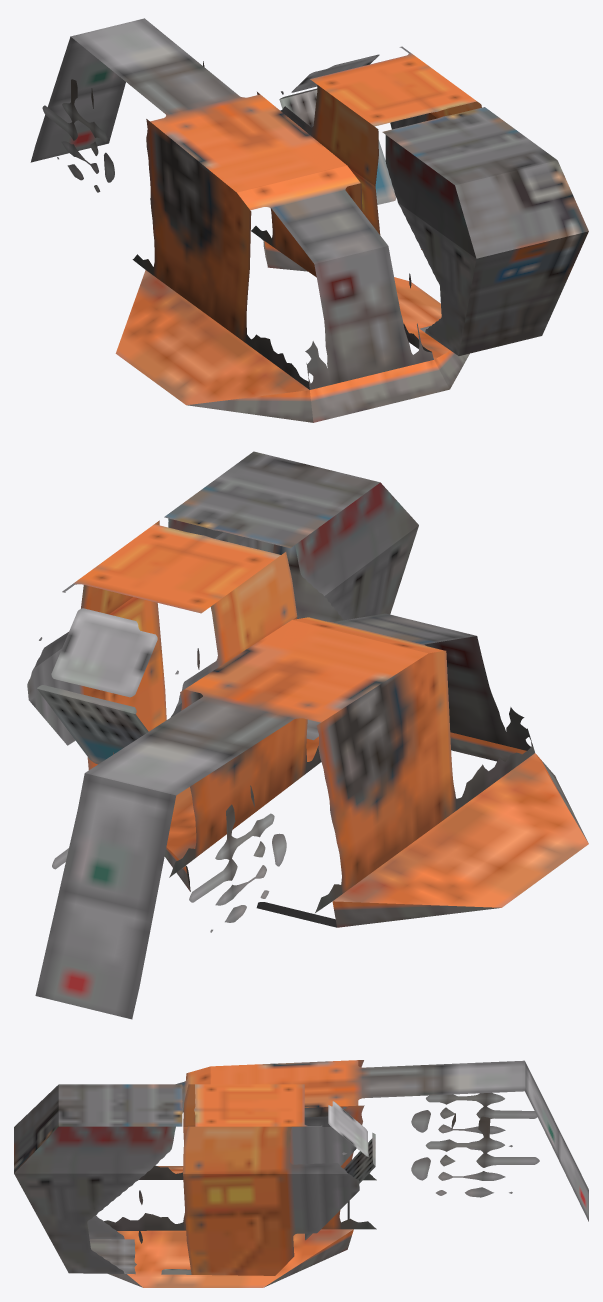
3 renders of one model, top to bottom at view 1: azimuth 30°, elevation 25°; view 2: azimuth 150°, elevation 25°; view 3: azimuth 270°, elevation 25°, orthographic. The views are drawn at different scales.
Parts seen in each view (by area): view 1: PulsarGunUV; view 2: PulsarGunUV; view 3: PulsarGunUV.
Boxes of the visible parts, bbox=[...] form: PulsarGunUV: bbox=[30, 18, 588, 422]; PulsarGunUV: bbox=[27, 451, 588, 1019]; PulsarGunUV: bbox=[14, 1060, 588, 1287].
Size of the model in its own units: 7.26 by 4.29 by 12.98.
